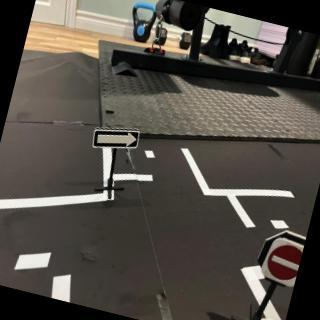sign_noentry: (257, 234, 305, 292)
sign_oneway_right: (90, 117, 144, 159)
